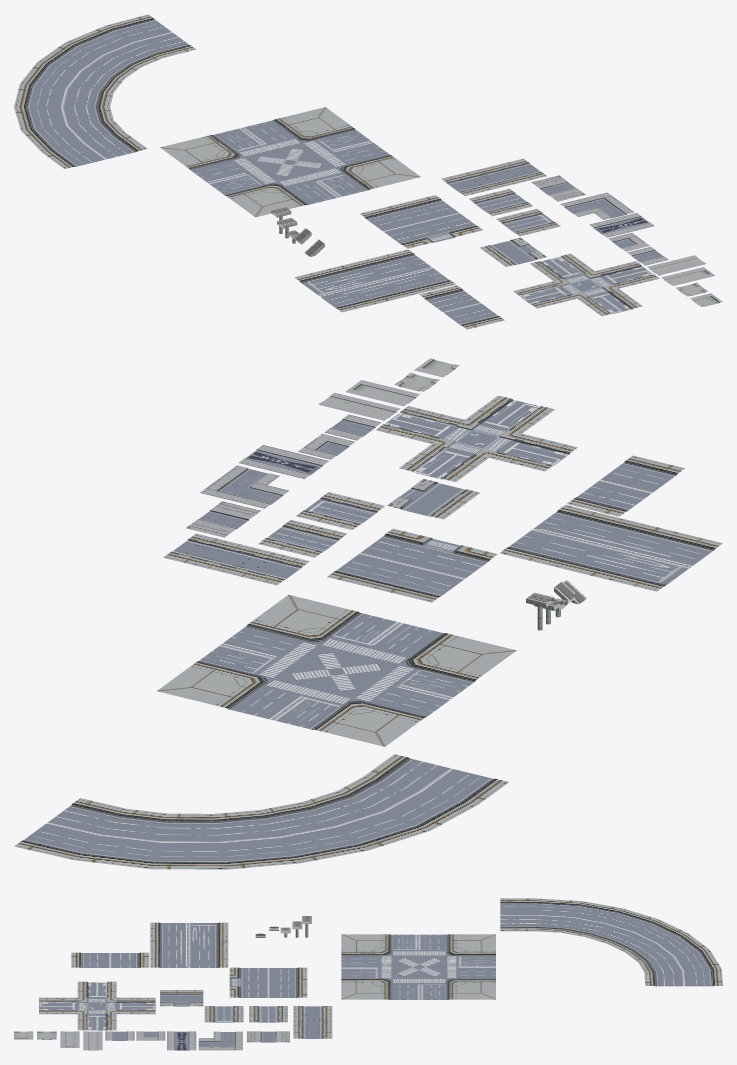
Rendered from Road.fbx.
3 renders of one model, top to bottom at view 1: azimuth 30°, elevation 25°; view 2: azimuth 150°, elevation 25°; view 3: azimuth 270°, elevation 25°, orthographic. The views are drawn at different scales.
Parts seen in each view (by area): view 1: CrossRoad.001, Road_01.012, Road_01.007, CrossRoad, Road_01.014, Road_01.001, Road_01.010, Road_02.011, Road_01.002, Road_01, Road_01.006, Road_02.002 (+3 smaller); view 2: CrossRoad.001, Road_01.012, Road_01.007, CrossRoad, Road_01.014, Road_01.001, Road_01.010, Road_02.011, Road_01.002, Road_01, Road_01.006, Road_02.002 (+5 smaller); view 3: CrossRoad.001, Road_01.012, Road_01.007, CrossRoad, Road_01.014, Road_01.001, Road_01.010, Road_02.011, Road_01.002, Road_01, Road_01.006, Road_02.002 (+5 smaller).
Part boxes in pixels (x1=…): CrossRoad.001: x1=160, y1=107, x2=420, y2=217; Road_01.012: x1=14, y1=14, x2=195, y2=168; Road_01.007: x1=294, y1=249, x2=455, y2=312; CrossRoad: x1=513, y1=253, x2=659, y2=316; Road_01.014: x1=360, y1=195, x2=482, y2=248; Road_01.001: x1=441, y1=158, x2=547, y2=196; Road_01.010: x1=419, y1=285, x2=504, y2=329; Road_02.011: x1=560, y1=192, x2=634, y2=219; Road_01.002: x1=479, y1=237, x2=546, y2=266; Road_01: x1=496, y1=209, x2=560, y2=236; Road_01.006: x1=468, y1=188, x2=533, y2=216; Road_02.002: x1=589, y1=213, x2=654, y2=237; CrossRoad.001: x1=157, y1=594, x2=516, y2=746; Road_01.012: x1=14, y1=754, x2=508, y2=869; Road_01.007: x1=499, y1=505, x2=722, y2=591; CrossRoad: x1=375, y1=395, x2=577, y2=481; Road_01.014: x1=327, y1=528, x2=497, y2=602; Road_01.001: x1=163, y1=533, x2=309, y2=585; Road_01.010: x1=567, y1=455, x2=684, y2=516; Road_02.011: x1=200, y1=465, x2=288, y2=508; Road_01.002: x1=387, y1=479, x2=480, y2=519; Road_01: x1=296, y1=492, x2=384, y2=529; Road_01.006: x1=258, y1=520, x2=347, y2=557; Road_02.002: x1=238, y1=445, x2=328, y2=478; CrossRoad.001: x1=341, y1=934, x2=495, y2=999; Road_01.012: x1=500, y1=898, x2=722, y2=986; Road_01.007: x1=150, y1=922, x2=228, y2=967; CrossRoad: x1=39, y1=981, x2=155, y2=1030; Road_01.014: x1=229, y1=967, x2=307, y2=997; Road_01.001: x1=293, y1=1006, x2=332, y2=1038; Road_01.010: x1=71, y1=952, x2=149, y2=967; Road_02.011: x1=198, y1=1031, x2=242, y2=1050; Road_01.002: x1=160, y1=990, x2=203, y2=1006; Road_01: x1=204, y1=1006, x2=243, y2=1022; Road_01.006: x1=249, y1=1006, x2=287, y2=1022; Road_02.002: x1=167, y1=1031, x2=196, y2=1050.
Bounding box in the file's own units: 18636 × 1074 × 36783.
